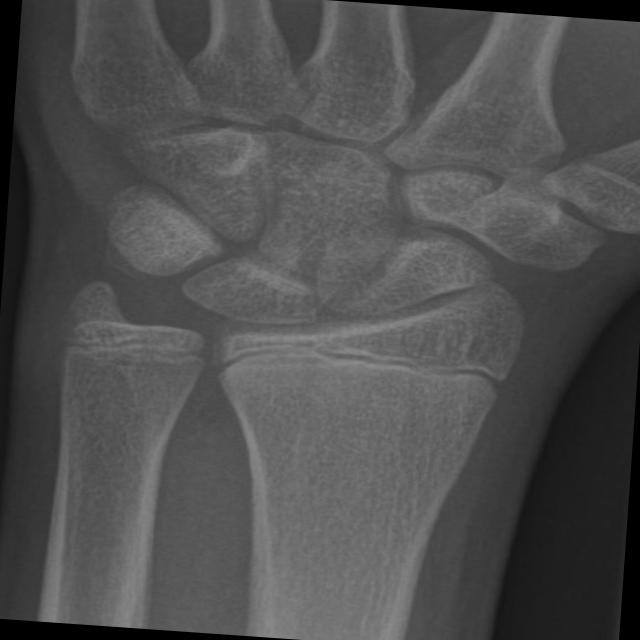fracture: (180, 318, 536, 419), (48, 318, 224, 384)
